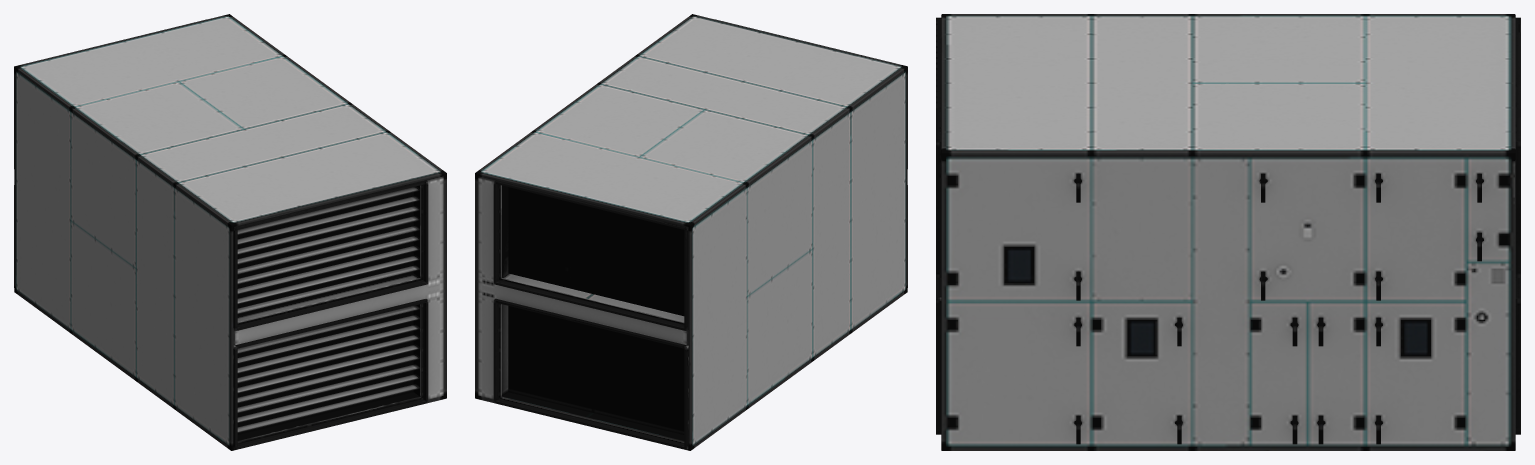
File: Geniox_Big-Expo_512_Diffuse.glb
3 renders of one model, left to right at view 1: azimuth 30°, elevation 25°; view 2: azimuth 150°, elevation 25°; view 3: azimuth 270°, elevation 25°, orthographic. The views are drawn at different scales.
Parts seen in each view (by area): view 1: Geniox_Big-Expo; view 2: Geniox_Big-Expo; view 3: Geniox_Big-Expo.
Part boxes in pixels (<box>): Geniox_Big-Expo: <box>14,14,446,450</box>; Geniox_Big-Expo: <box>475,14,907,450</box>; Geniox_Big-Expo: <box>936,14,1520,450</box>.
Size of the model in its own units: 2.34 by 2.28 by 4.05.
1 material, 1 textured.
